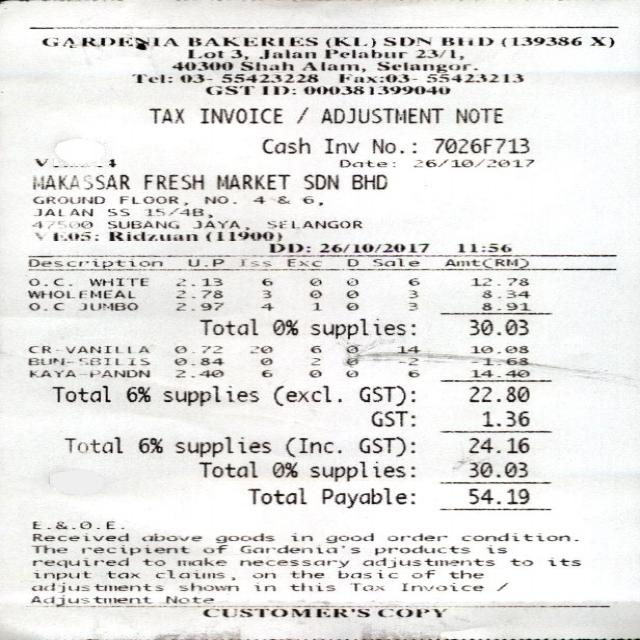text: (306, 318, 412, 340), (308, 460, 414, 481), (174, 435, 269, 457), (160, 385, 257, 406), (267, 241, 429, 253), (320, 487, 412, 508), (40, 36, 176, 50), (318, 108, 441, 123), (26, 258, 161, 270), (360, 556, 492, 568), (202, 608, 368, 617), (431, 138, 528, 153), (272, 385, 340, 406), (31, 174, 128, 188), (302, 85, 449, 94), (198, 108, 280, 124), (30, 582, 161, 592), (186, 36, 316, 46), (30, 594, 152, 604), (282, 436, 340, 457), (358, 435, 413, 457), (214, 173, 289, 189), (79, 544, 187, 555), (358, 385, 413, 406), (374, 61, 476, 72), (25, 356, 147, 365), (412, 158, 532, 167), (30, 556, 127, 567), (50, 384, 109, 402), (62, 435, 121, 453), (459, 532, 577, 541), (374, 544, 469, 555), (198, 317, 256, 335), (467, 436, 528, 453), (468, 318, 526, 335), (246, 487, 304, 504), (26, 345, 148, 353), (467, 488, 528, 504), (237, 545, 358, 553), (28, 369, 148, 377), (466, 461, 526, 477), (197, 461, 256, 477), (467, 386, 528, 401), (142, 174, 202, 189), (219, 73, 317, 82), (500, 35, 580, 46), (424, 73, 521, 82), (30, 532, 127, 541), (239, 560, 347, 568), (153, 568, 223, 580), (31, 520, 122, 529), (107, 231, 195, 240), (202, 231, 280, 241), (32, 230, 97, 242), (260, 137, 308, 153), (265, 220, 360, 228), (481, 410, 528, 426), (118, 194, 186, 205), (144, 207, 211, 218), (324, 49, 405, 58), (400, 582, 481, 591), (336, 73, 416, 82), (299, 61, 364, 72), (439, 258, 527, 266), (369, 410, 413, 426), (455, 108, 501, 123), (455, 240, 511, 252), (105, 220, 178, 229), (214, 532, 272, 543), (375, 608, 445, 617), (258, 48, 314, 59), (86, 276, 147, 286), (468, 355, 528, 365), (468, 276, 526, 286), (350, 173, 386, 189), (31, 570, 88, 580), (302, 173, 337, 189), (191, 220, 247, 230), (170, 61, 232, 70), (324, 36, 374, 47), (139, 532, 200, 541), (438, 36, 492, 46), (386, 532, 446, 541), (336, 569, 396, 578), (324, 532, 372, 543), (147, 108, 182, 123), (322, 138, 357, 153), (30, 196, 103, 203), (174, 556, 224, 566), (163, 594, 213, 604), (372, 138, 403, 154), (337, 158, 392, 167), (413, 49, 462, 59), (29, 220, 90, 228), (238, 61, 292, 70), (174, 276, 222, 286), (468, 369, 528, 377), (77, 302, 136, 310), (178, 582, 237, 590), (28, 289, 75, 299), (468, 345, 526, 353), (383, 36, 429, 46), (33, 208, 90, 216), (172, 356, 222, 365), (270, 318, 296, 335), (204, 85, 252, 94), (480, 289, 528, 298), (79, 290, 133, 298), (286, 582, 334, 591), (371, 257, 418, 266), (129, 73, 170, 83), (480, 302, 529, 310), (138, 436, 161, 453), (270, 462, 296, 477), (174, 290, 222, 298), (174, 302, 222, 310), (172, 345, 220, 353), (174, 369, 222, 377), (284, 257, 322, 267), (26, 276, 63, 286), (124, 386, 148, 401), (29, 544, 66, 553), (185, 49, 221, 58), (183, 258, 223, 266), (587, 35, 613, 47), (261, 85, 294, 94), (350, 582, 382, 591), (447, 570, 482, 578), (27, 302, 61, 310), (104, 570, 138, 578), (288, 570, 322, 578), (548, 557, 578, 566), (178, 74, 211, 82), (301, 194, 321, 206), (394, 344, 418, 354), (200, 544, 226, 553), (240, 258, 269, 266), (409, 569, 434, 578), (202, 196, 234, 203), (295, 107, 307, 123), (343, 344, 359, 356), (105, 208, 128, 216), (248, 345, 271, 353), (508, 558, 531, 566), (396, 356, 416, 365), (230, 49, 246, 60), (142, 558, 163, 566), (288, 534, 310, 541), (252, 584, 274, 591), (343, 288, 357, 298), (252, 572, 274, 578), (308, 276, 321, 286), (405, 276, 418, 286), (484, 547, 505, 553), (259, 276, 271, 286), (307, 290, 322, 298), (306, 369, 320, 377), (345, 277, 357, 286), (343, 258, 356, 266), (259, 356, 270, 365), (274, 196, 288, 203), (258, 303, 272, 310), (345, 302, 357, 310), (307, 345, 319, 353), (251, 196, 264, 203), (343, 370, 356, 377), (405, 370, 418, 377), (311, 301, 321, 310), (346, 356, 356, 365), (259, 369, 270, 377), (260, 289, 269, 298), (310, 356, 319, 365), (407, 290, 416, 298), (407, 302, 416, 310), (497, 582, 506, 590), (459, 461, 460, 462)
